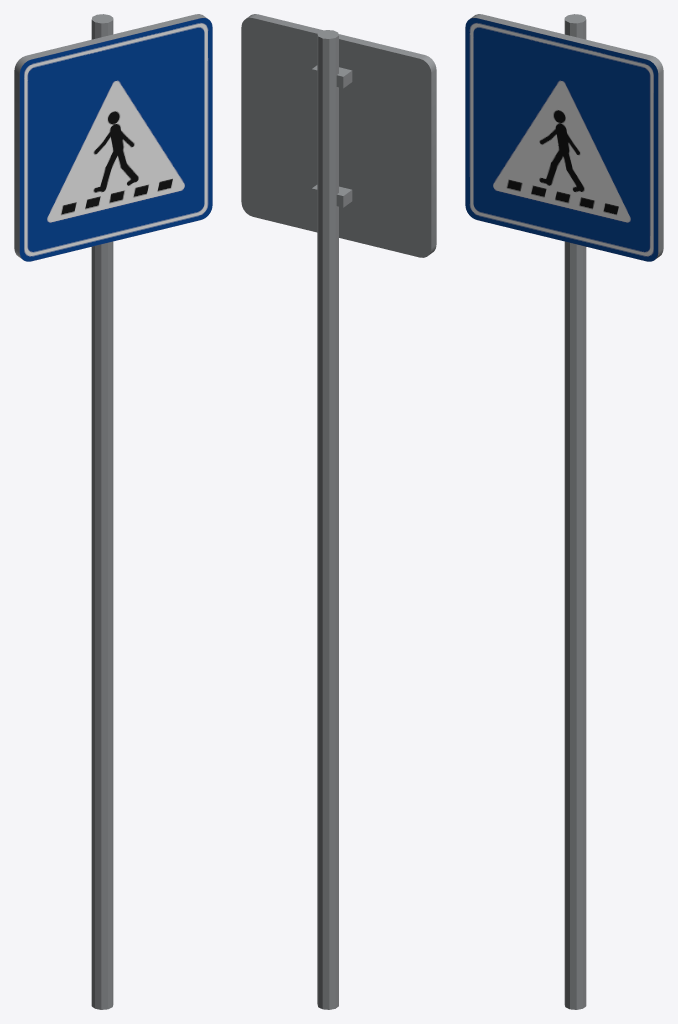
File: sign-pedestrian-crossing.glb
3 renders of one model, left to right at view 1: azimuth 30°, elevation 25°; view 2: azimuth 150°, elevation 25°; view 3: azimuth 330°, elevation 25°, orthographic.
Parts seen in each view (by area): view 1: sign-pedestrian-crossing; view 2: sign-pedestrian-crossing; view 3: sign-pedestrian-crossing.
Boxes of the visible parts, <box> form: sign-pedestrian-crossing: <box>14,14,212,1009</box>; sign-pedestrian-crossing: <box>241,14,436,1009</box>; sign-pedestrian-crossing: <box>465,14,663,1009</box>.
Size of the model in its own units: 0.6 by 2.93 by 0.103.
1 material, 1 textured.
